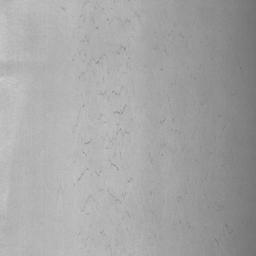Silk spot: (113, 104, 127, 115), (1, 64, 13, 76)
